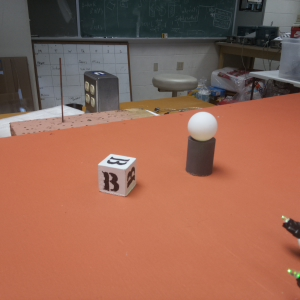blockB: (98, 151, 138, 197)
obstacle: (185, 110, 222, 181)
